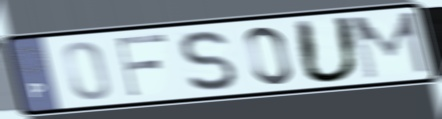0: (60, 39, 113, 102), (243, 24, 294, 87)
F: (114, 32, 170, 100)
M: (348, 9, 432, 83)
S: (178, 28, 240, 93)
U: (291, 14, 364, 86)
